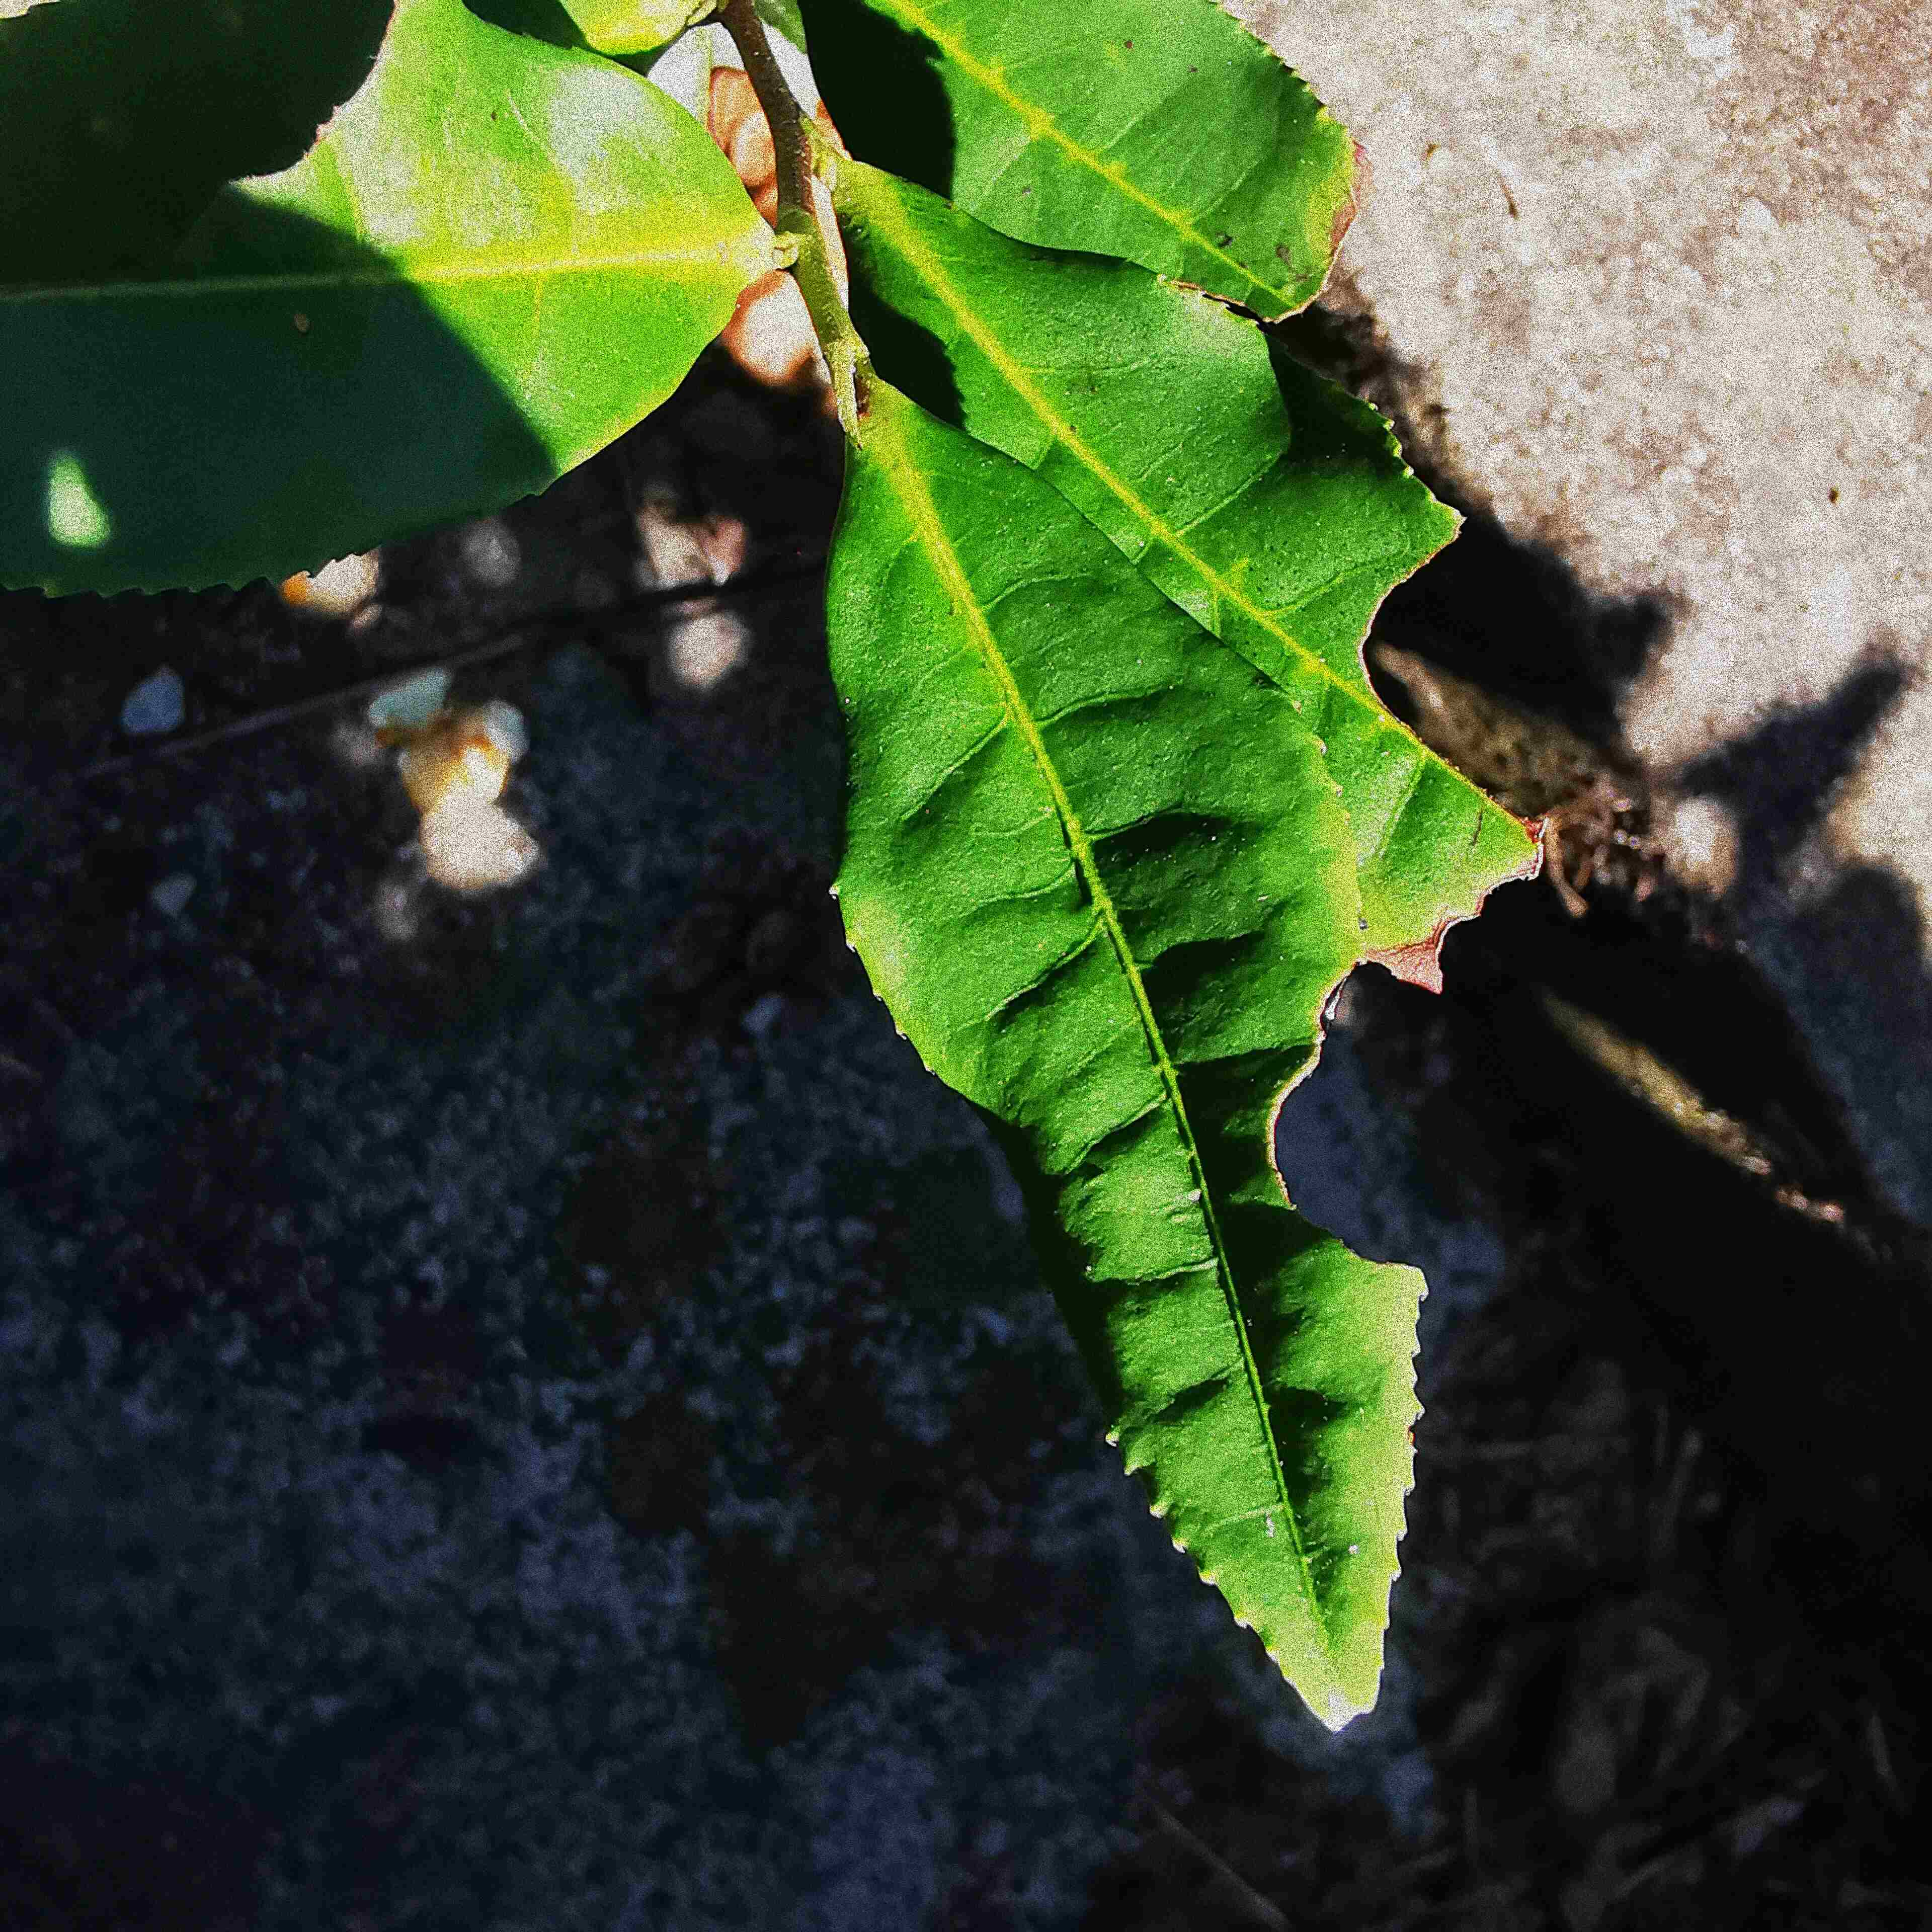chihuo_high: (819, 407, 1424, 1730), (833, 156, 1552, 1003), (842, 0, 1375, 320)
